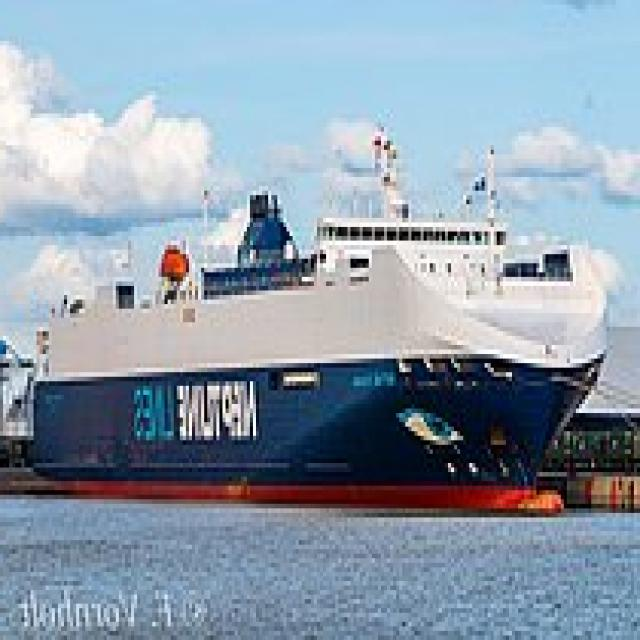Carrier: (24, 118, 616, 517)
